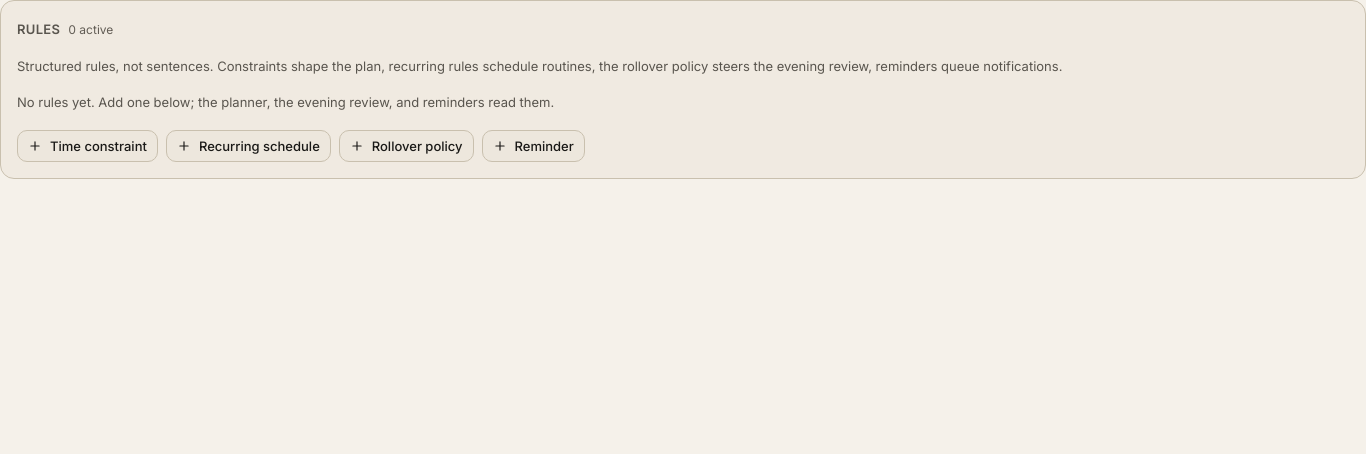
Test case: RulesSection › adds a "no demanding work after 19:00" constraint through the shared schema
expect the text with test id "rules-empty" is shown: met, box top-left (17, 94), bottom-right (554, 110)
Click the button "Time constraint" at {"x": 87, "y": 146}, box top-left (17, 130), bottom-right (158, 162)
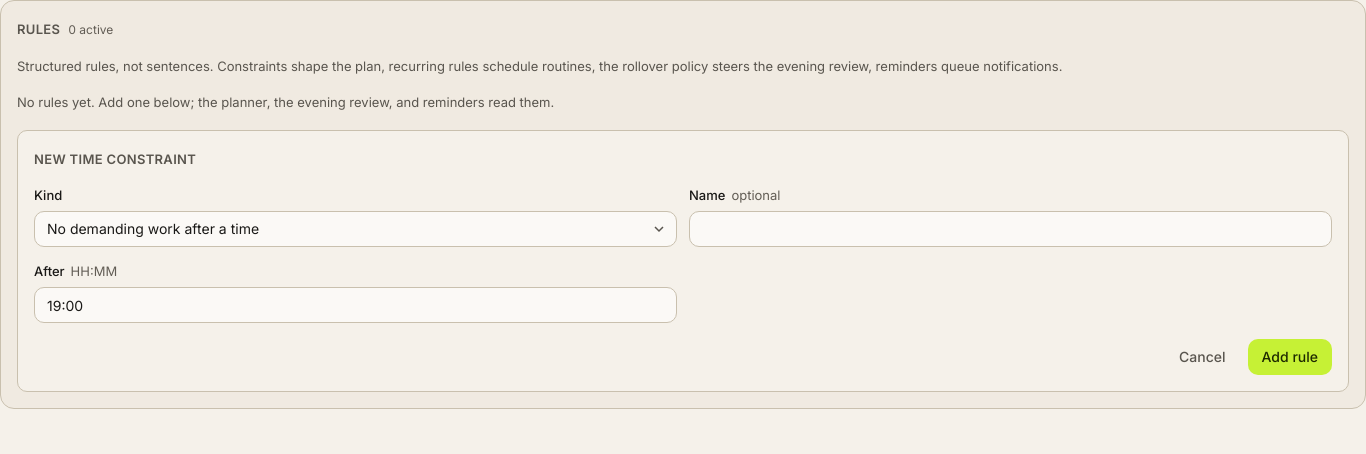
expect the dropdown labelled "Kind" shows "No demanding work after a time": met, box top-left (34, 211), bottom-right (677, 247)
Replace the text in the field labelled "After" with "7pm" at {"x": 356, "y": 305}, box top-left (34, 287), bottom-right (677, 323)
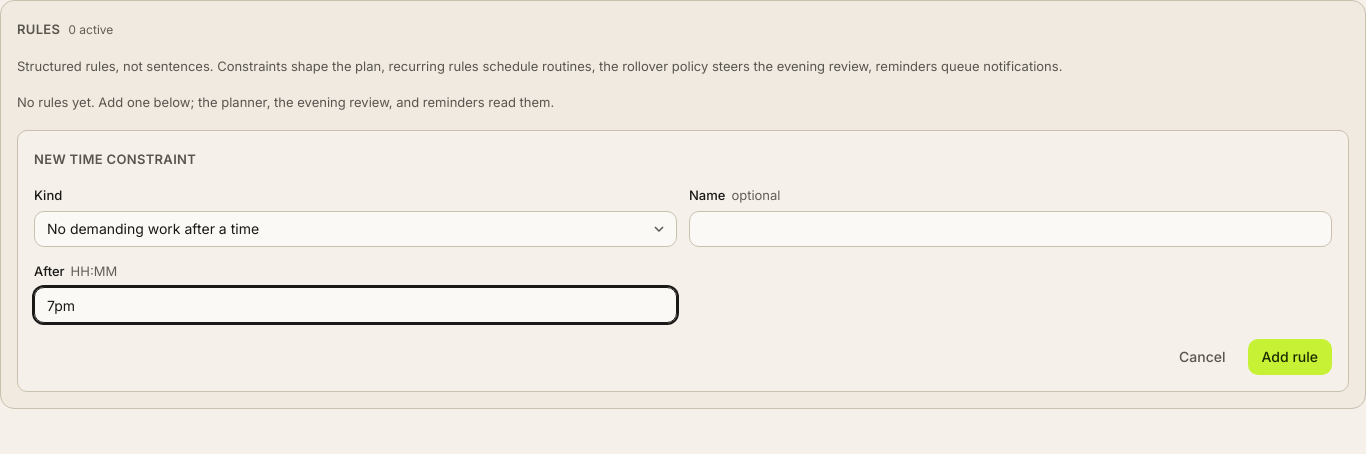
Click the button "Add rule" at {"x": 1290, "y": 357}, box top-left (1248, 339), bottom-right (1332, 375)
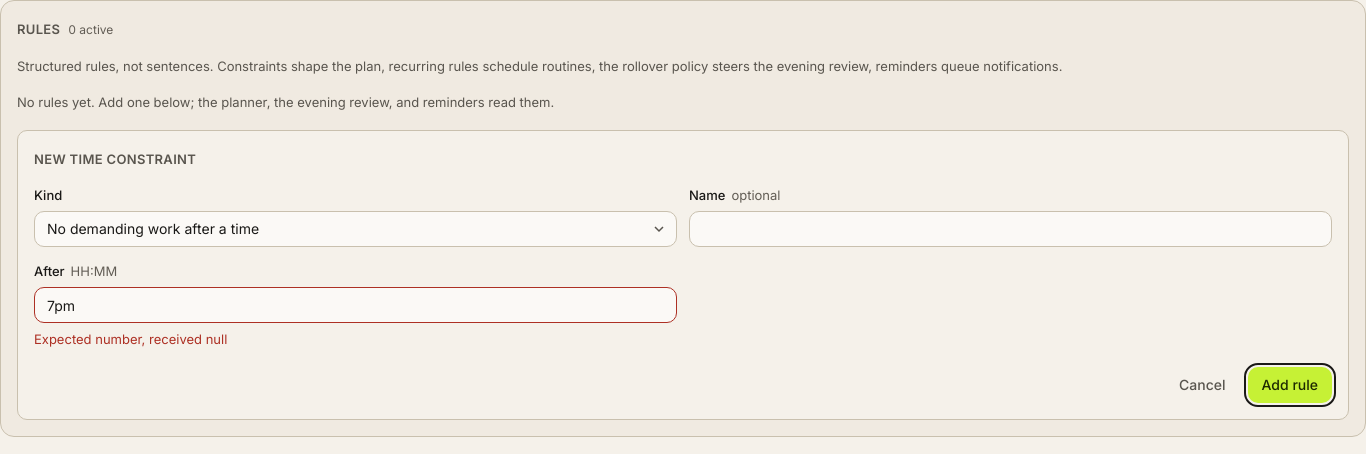
expect the message shows "Expected number": met, box top-left (34, 331), bottom-right (227, 347)
Replace the text in the field labelled "After" with "19:00" at {"x": 356, "y": 305}, box top-left (34, 287), bottom-right (677, 323)
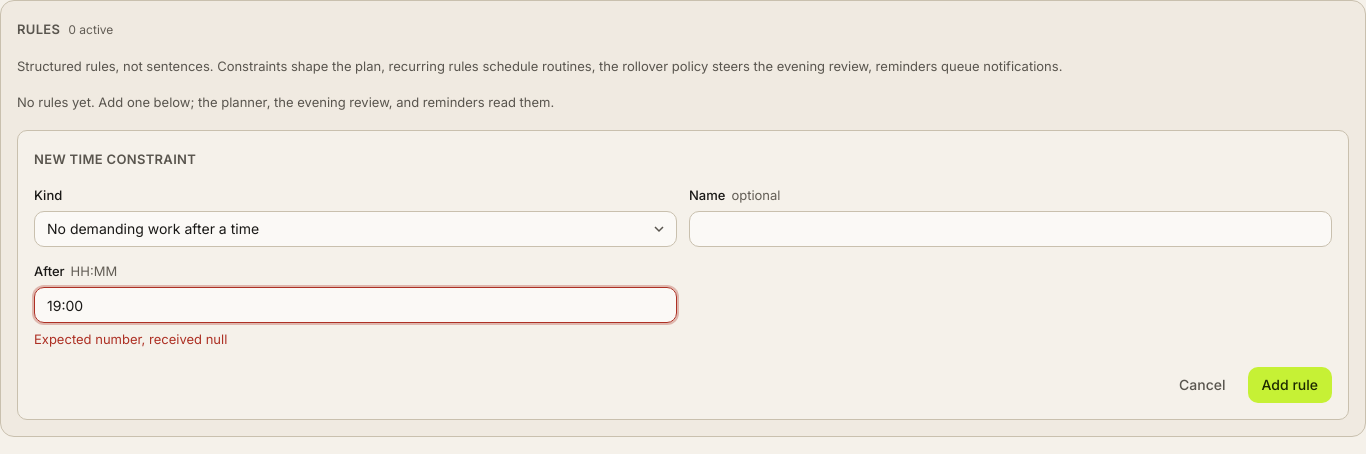
Type "Wind down" into the field labelled "Name" at {"x": 1010, "y": 229}, box top-left (689, 211), bottom-right (1332, 247)
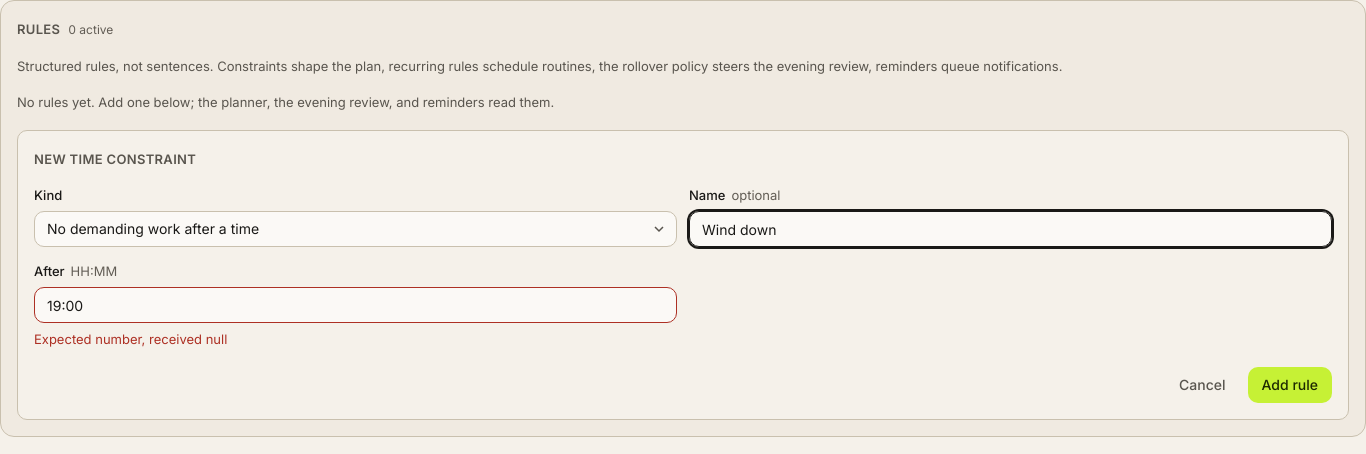
Click the button "Add rule" at {"x": 1290, "y": 385}, box top-left (1248, 367), bottom-right (1332, 403)
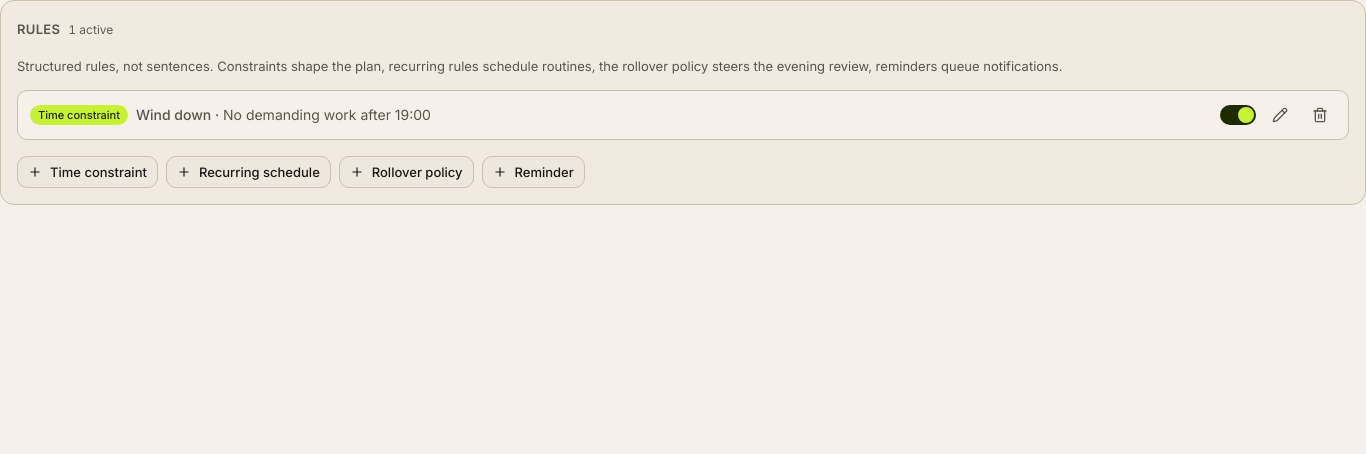
expect the list named "Rules" shows "No demanding work after 19:00": met, box top-left (223, 106), bottom-right (431, 123)
